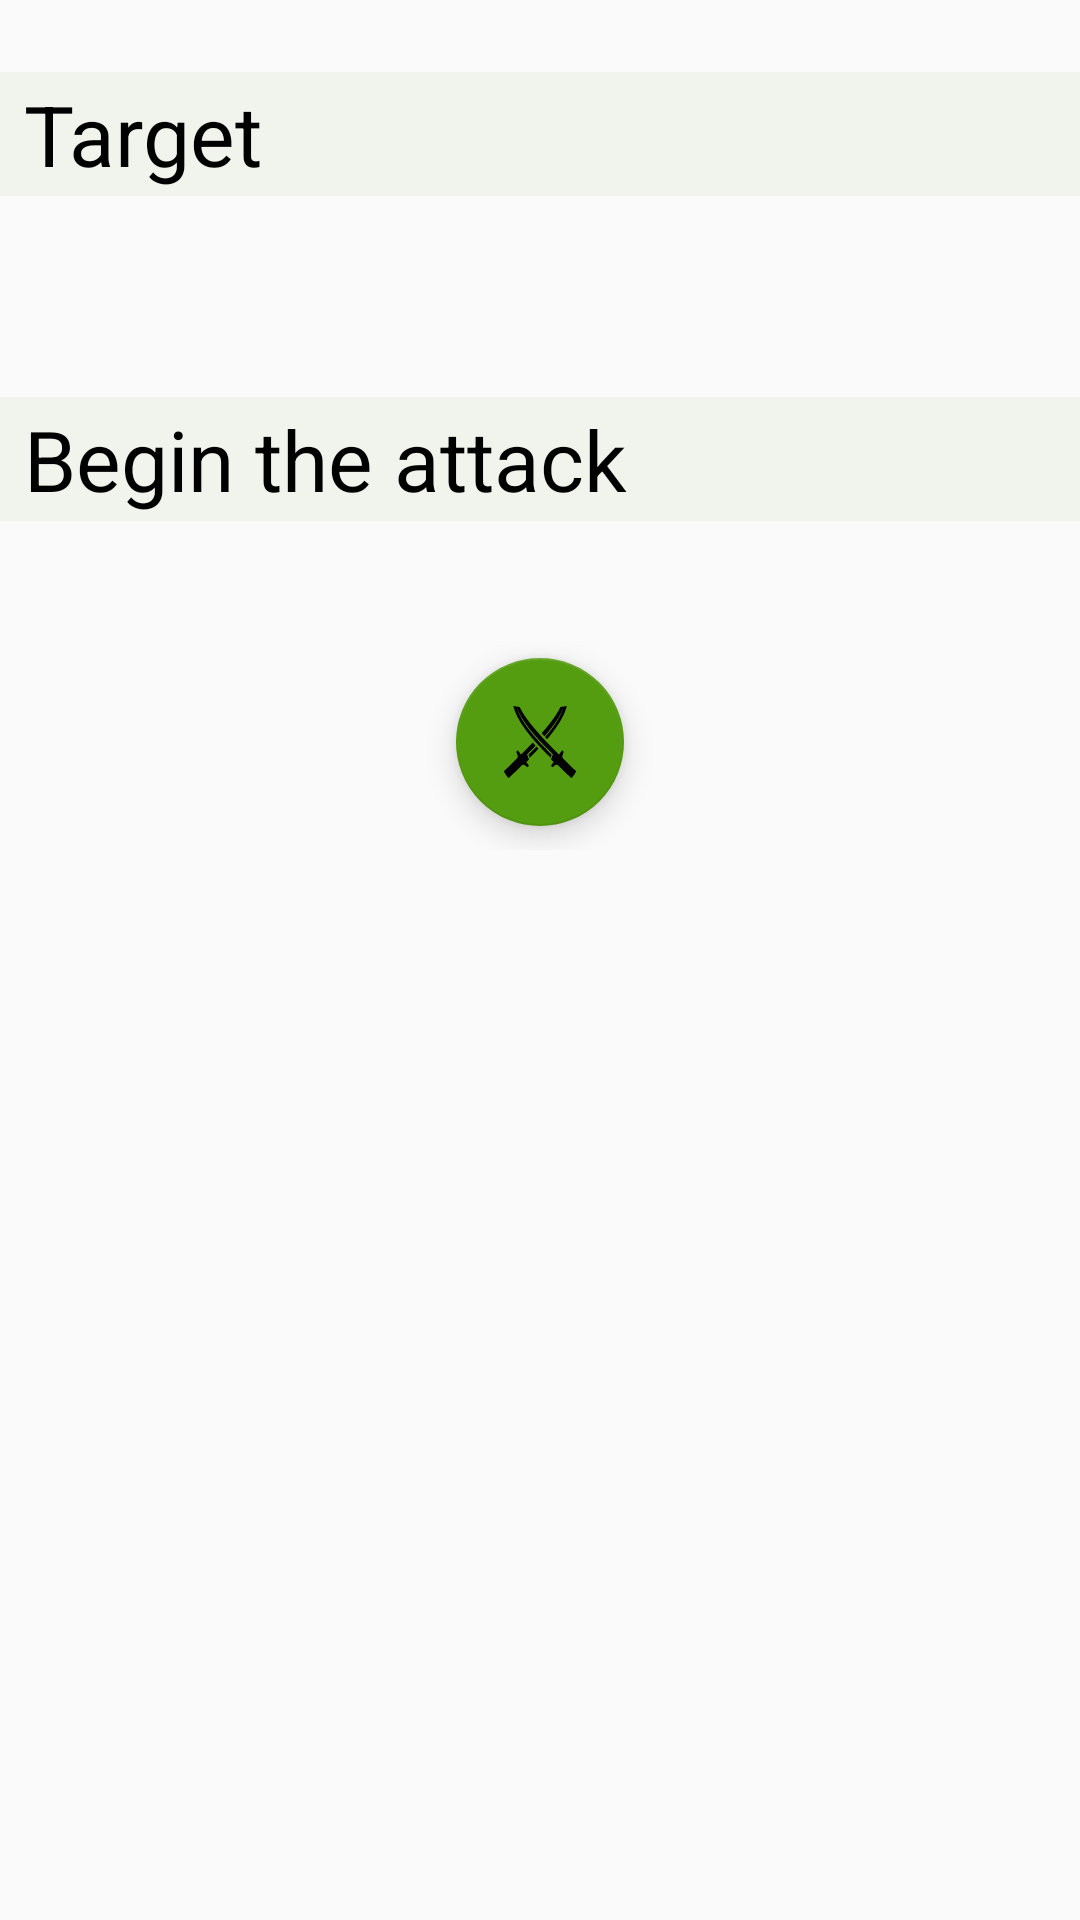

Icon bounding boxes for this 1080x1920 phone screenshot, format (x1,y1,x2,y2):
swords: (456,658,624,826)
